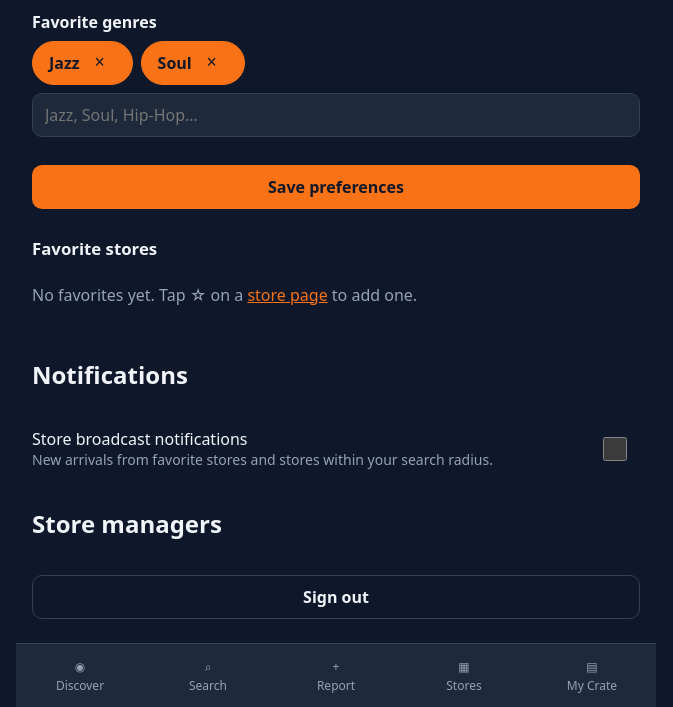
Test: broadcast push toggle › explains a blocked permission
(page scrolled)
Click the switch labelled "Store broadcast notifications": [615, 449] box left=593, top=437, right=637, bottom=461
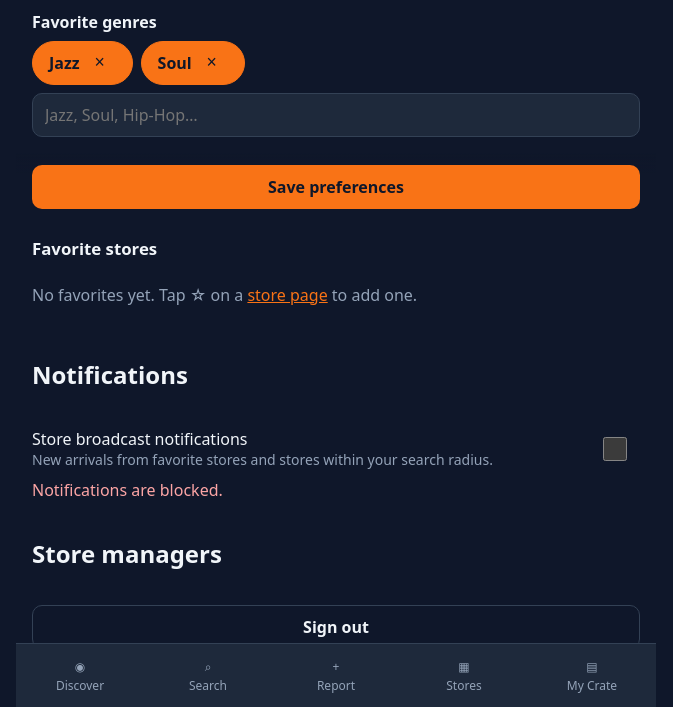
Check: the message reads "Notifications are blocked.", box left=32, top=479, right=223, bottom=501
